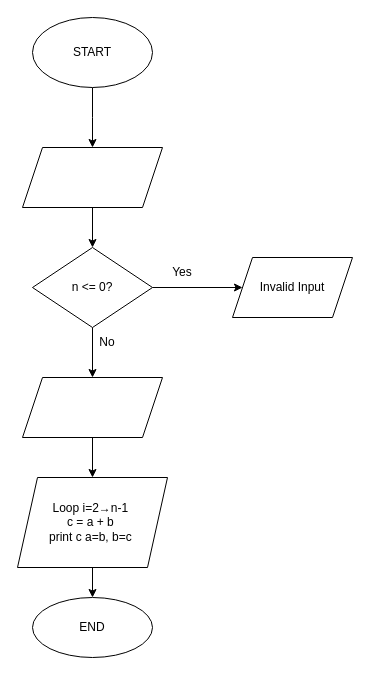
The diagram is 370 pixels wide and 675 high, and some of its shapes have lost their labels. The shapes that lost their labels are listed below. From the top down, each one's box as (x1, y1, x2, y2) in pixels, then its label:
(22, 146, 162, 208): INPUT n
(22, 376, 162, 438): a =0, b=1 print a,b
